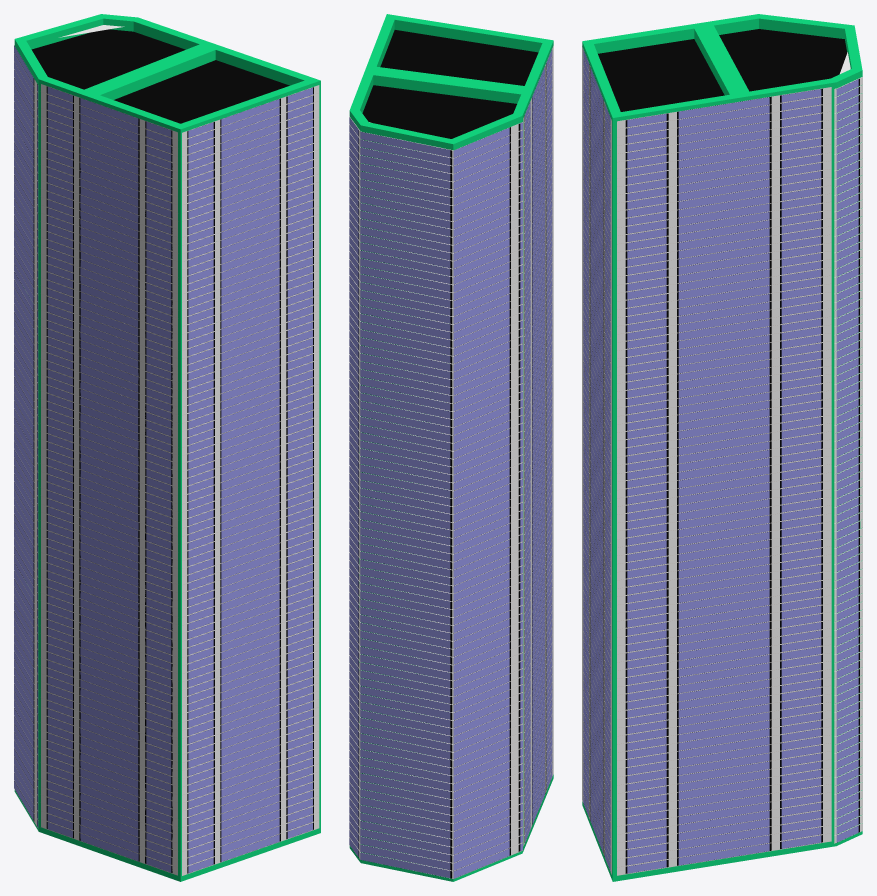
The model's file is OneNewcastleRoad.fbx.
The picture shows the model from 3 angles, left to right: view 1: azimuth 30°, elevation 25°; view 2: azimuth 150°, elevation 25°; view 3: azimuth 270°, elevation 25°; orthographic projection. The views are drawn at different scales.
Parts seen in each view (by area): view 1: Window.002, Window.001, OneNewcastleRoad, Window.004; view 2: Window.003, Window.004, OneNewcastleRoad, Window.001; view 3: Window, OneNewcastleRoad, Window.002, Window.003.
Boxes of the visible parts, x1,y1,x2,y2 form: Window.002: (182, 85, 319, 875); Window.001: (41, 84, 177, 875); OneNewcastleRoad: (14, 14, 320, 881); Window.004: (14, 45, 38, 828); Window.003: (349, 116, 453, 878); Window.004: (453, 122, 522, 878); OneNewcastleRoad: (349, 14, 553, 881); Window.001: (523, 46, 553, 846); Window: (617, 87, 831, 875); OneNewcastleRoad: (582, 14, 862, 881); Window.002: (582, 46, 611, 874); Window.003: (834, 52, 862, 843).
Bounding box in the file's own units: 5565 × 19000 × 6334.
